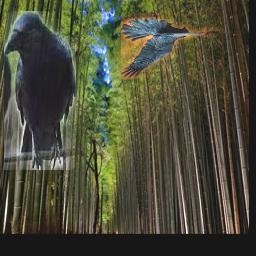Crow: (4, 11, 76, 170), (120, 14, 225, 79)
